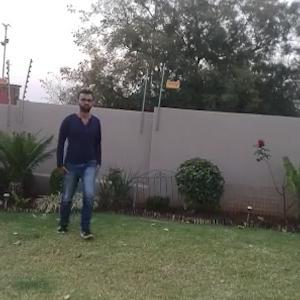follow: (59, 92, 105, 230)
